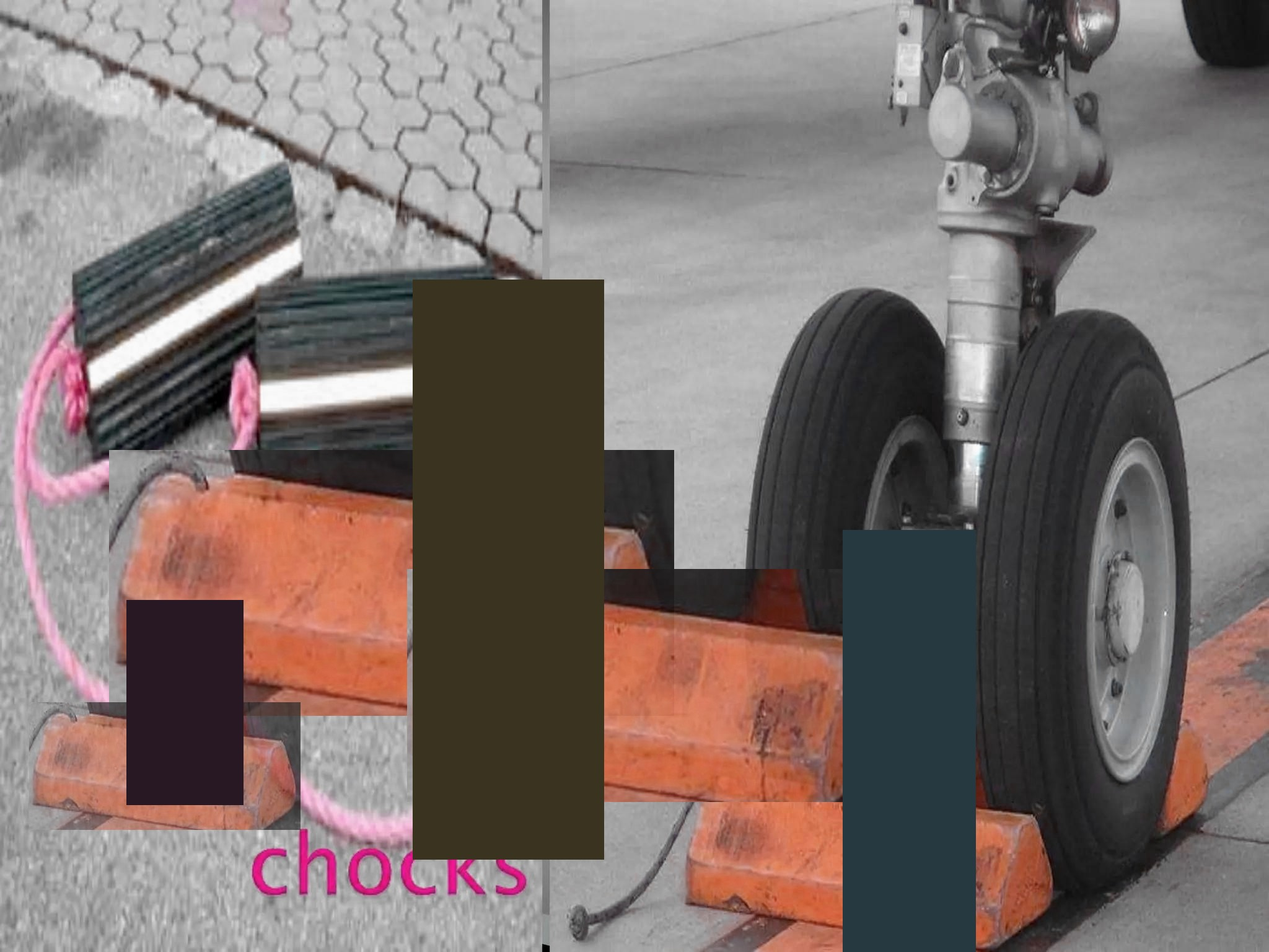chock: (109, 450, 674, 716), (407, 569, 902, 802), (69, 159, 309, 461), (680, 761, 1060, 940), (252, 265, 518, 509), (29, 702, 301, 830)
wheel: (973, 312, 1192, 894), (742, 288, 964, 806), (1179, 0, 1265, 65)
